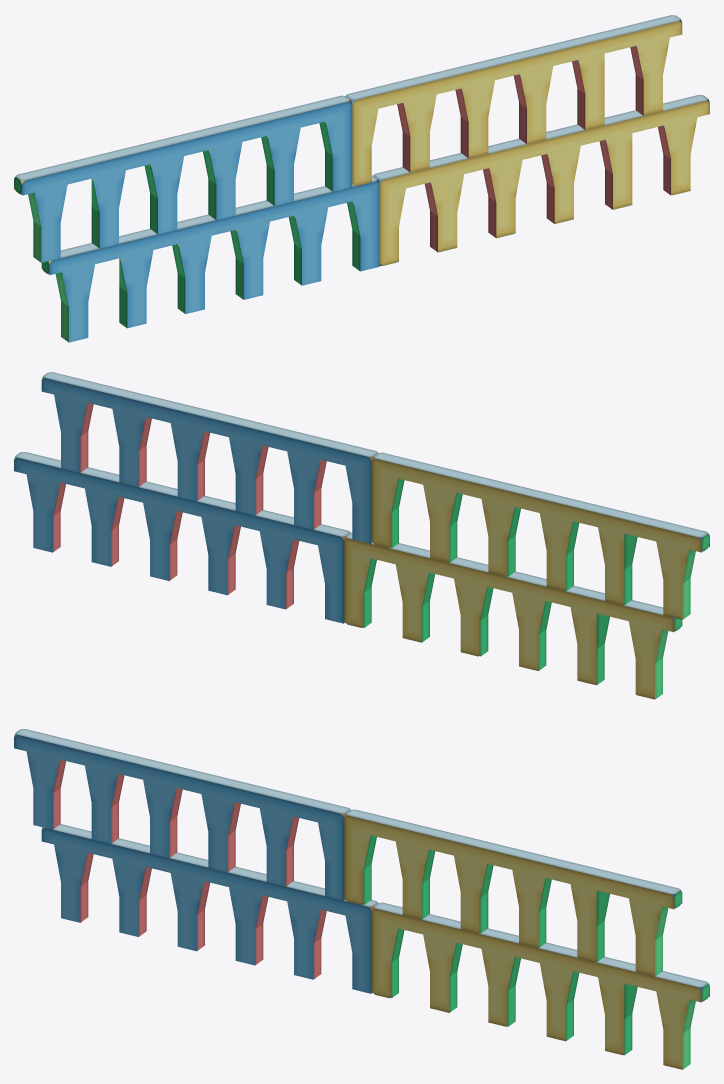
File: bridge.fbx
3 renders of one model, top to bottom at view 1: azimuth 30°, elevation 25°; view 2: azimuth 150°, elevation 25°; view 3: azimuth 330°, elevation 25°, orthographic.
Parts seen in each view (by area): view 1: cuboid_3, cuboid, cuboid_1, cuboid_2; view 2: cuboid_3, cuboid, cuboid_1, cuboid_2; view 3: cuboid, cuboid_3, cuboid_2, cuboid_1.
Part boxes in pixels (x1=…): cuboid_3: x1=14, y1=95, x2=352, y2=262; cuboid: x1=346, y1=15, x2=682, y2=186; cuboid_1: x1=41, y1=175, x2=379, y2=342; cuboid_2: x1=373, y1=95, x2=709, y2=265; cuboid_3: x1=371, y1=452, x2=709, y2=619; cuboid: x1=41, y1=372, x2=377, y2=543; cuboid_1: x1=344, y1=532, x2=682, y2=699; cuboid_2: x1=14, y1=452, x2=350, y2=623; cuboid: x1=344, y1=809, x2=682, y2=976; cuboid_3: x1=14, y1=729, x2=350, y2=900; cuboid_2: x1=371, y1=902, x2=709, y2=1069; cuboid_1: x1=41, y1=824, x2=377, y2=993.
Size of the model in its own units: 625 by 150 by 12.5.
1 material, 1 textured.
